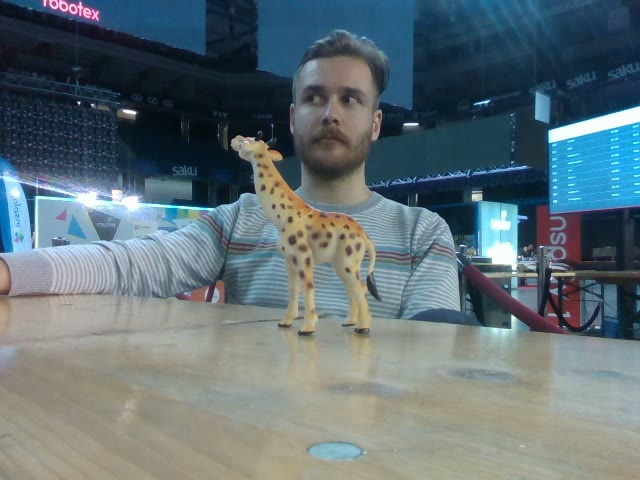toy: (230, 134, 380, 336)
